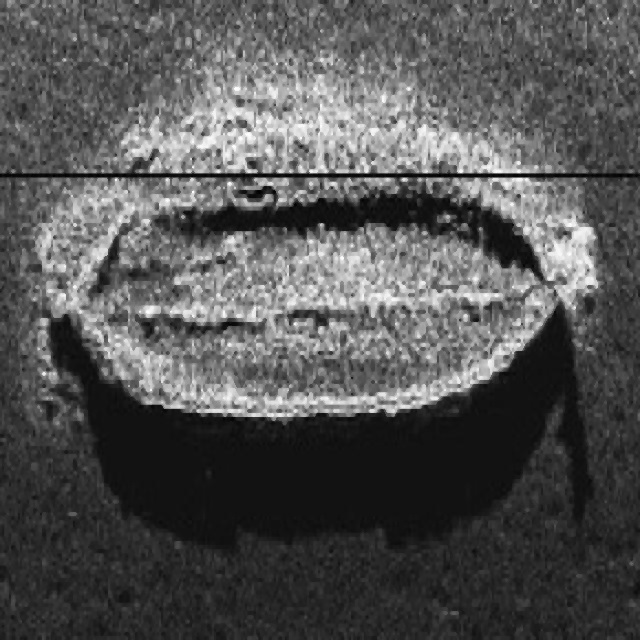Ship: (29, 113, 581, 478)
